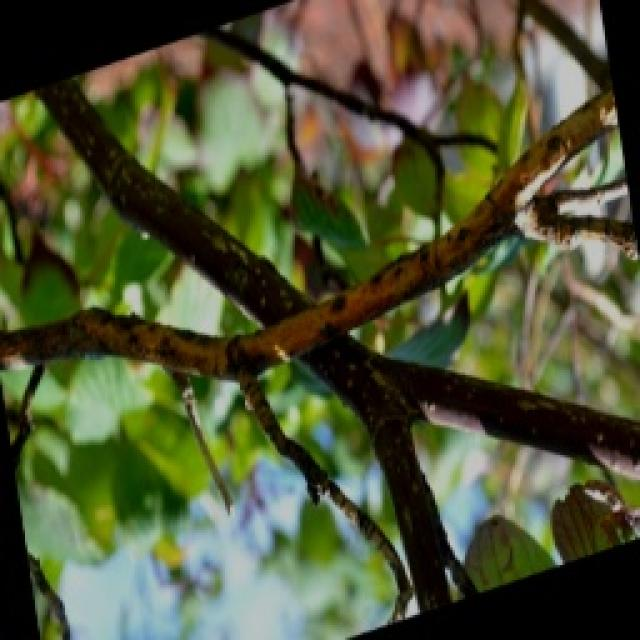Golden_canker: (8, 83, 640, 561)
